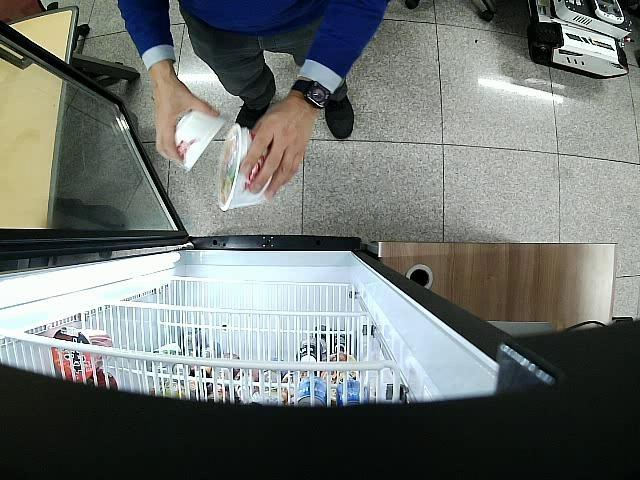09_yukGaeJang: (222, 124, 272, 211), (172, 110, 220, 172)
